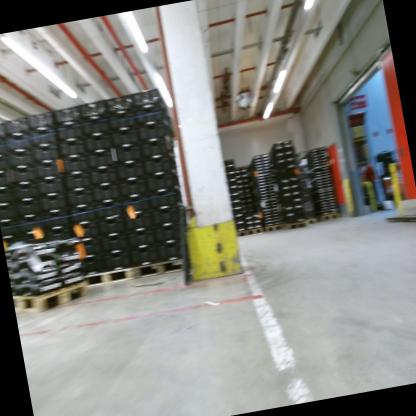pallet: (11, 270, 90, 318), (131, 254, 190, 278), (84, 264, 138, 287), (280, 214, 308, 235), (319, 212, 342, 225), (263, 221, 283, 234), (305, 212, 321, 227), (244, 225, 264, 237), (232, 224, 246, 239)
small_load_carrier: (130, 84, 168, 121), (141, 151, 180, 182), (151, 202, 187, 230), (133, 103, 168, 131), (145, 169, 182, 194), (104, 86, 134, 115), (14, 199, 44, 228), (76, 98, 107, 125), (51, 101, 82, 127), (117, 178, 150, 202), (64, 186, 97, 210), (90, 163, 119, 190), (128, 245, 162, 268), (28, 142, 59, 167), (6, 163, 37, 188), (125, 227, 158, 250), (114, 160, 147, 183), (111, 142, 144, 165), (59, 153, 92, 176), (90, 181, 120, 206), (97, 232, 127, 257), (66, 205, 100, 227), (93, 197, 124, 221), (148, 188, 180, 211), (108, 124, 140, 147), (135, 120, 170, 141), (102, 249, 131, 274), (79, 117, 110, 140), (85, 149, 116, 172), (26, 109, 57, 132), (34, 176, 65, 199), (37, 194, 69, 216), (119, 196, 154, 216), (139, 136, 172, 157), (121, 211, 154, 232), (69, 222, 102, 243), (62, 171, 95, 192), (77, 254, 108, 276), (54, 122, 85, 144), (153, 224, 185, 245), (159, 240, 188, 263), (45, 225, 74, 248), (74, 238, 105, 259), (96, 214, 124, 237), (3, 113, 30, 136), (56, 139, 87, 159), (9, 184, 40, 204), (19, 215, 47, 237), (6, 146, 34, 168), (1, 217, 22, 246), (82, 135, 112, 154), (109, 109, 137, 129), (42, 210, 71, 229), (3, 132, 32, 151), (33, 162, 61, 181), (29, 127, 56, 146), (0, 185, 16, 206), (0, 204, 17, 220), (0, 171, 12, 188), (0, 156, 11, 172), (0, 117, 7, 139), (0, 138, 6, 156)
